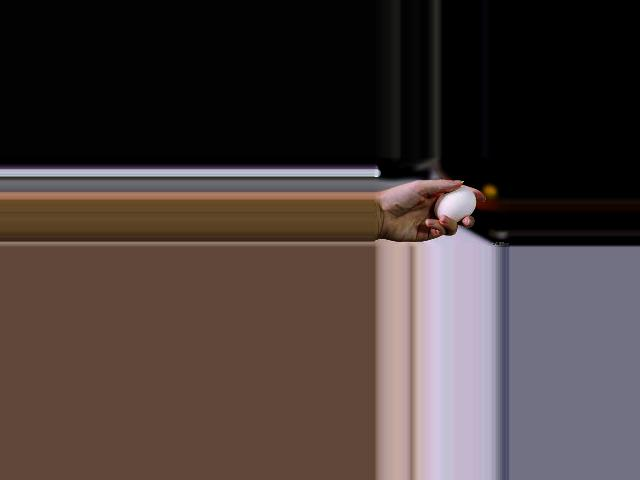egg: (435, 187, 477, 222)
